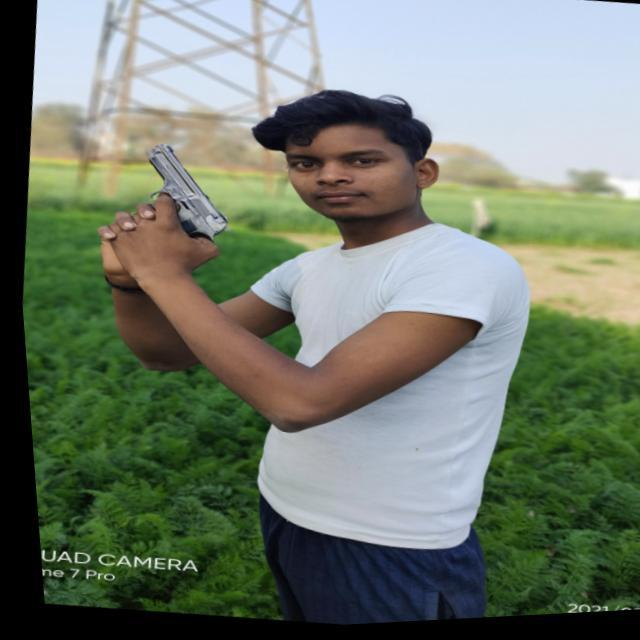weapon: (95, 133, 239, 267)
